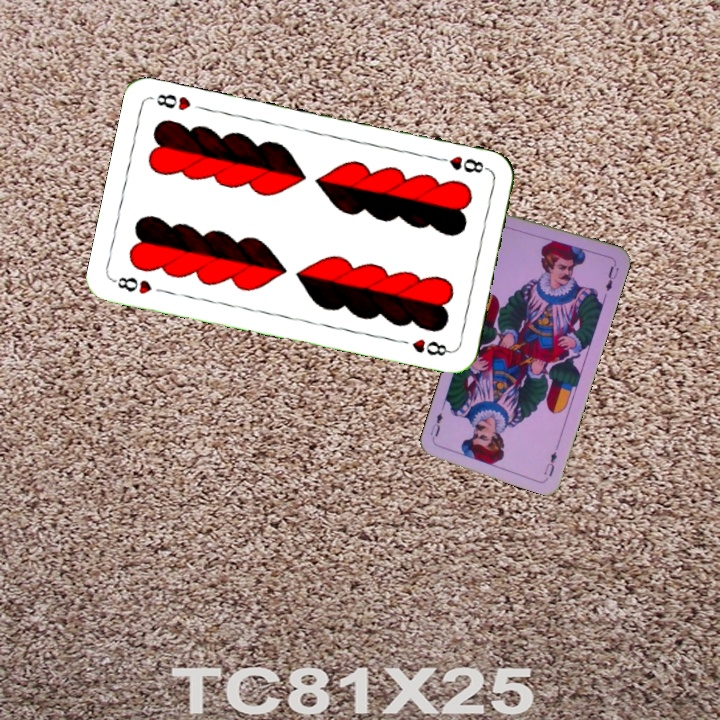EU: (540, 447, 560, 479)
H8: (432, 152, 491, 176), (110, 273, 155, 297)
